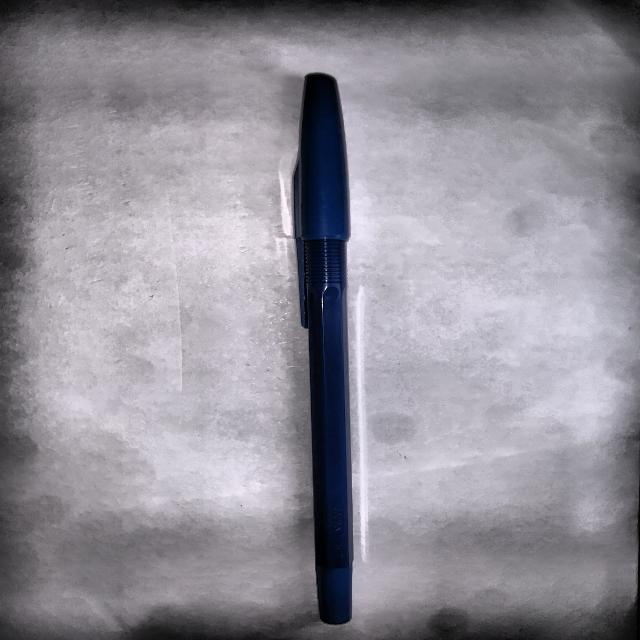Pulpen: (277, 61, 386, 632)
